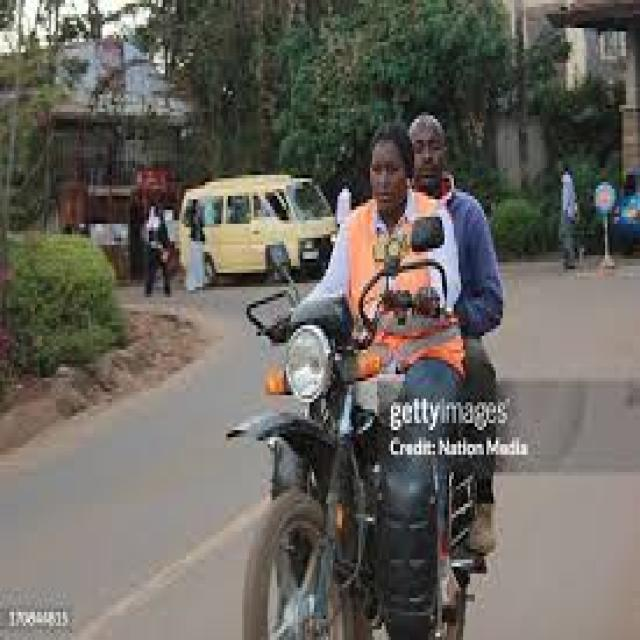bodaboda: (197, 191, 540, 640)
